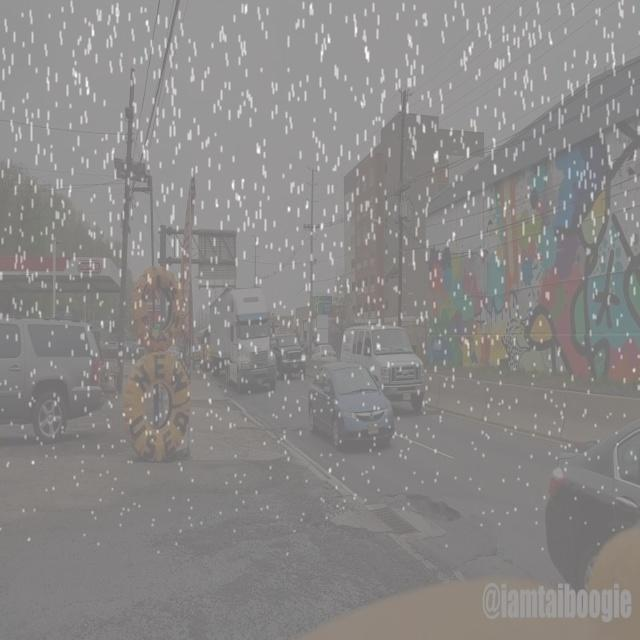Pothole: (344, 484, 464, 546)
